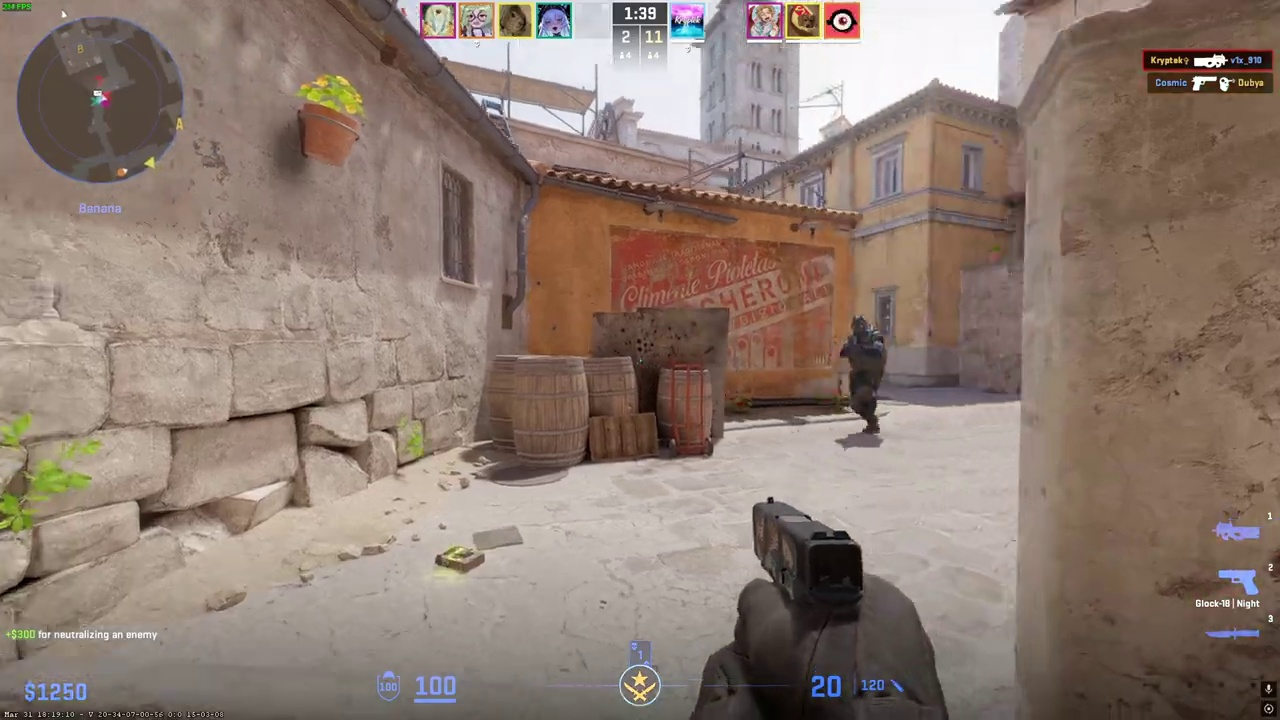CT: (842, 315, 887, 434)
